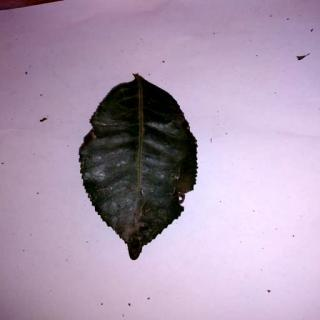Anthracnose: (81, 75, 203, 262)
